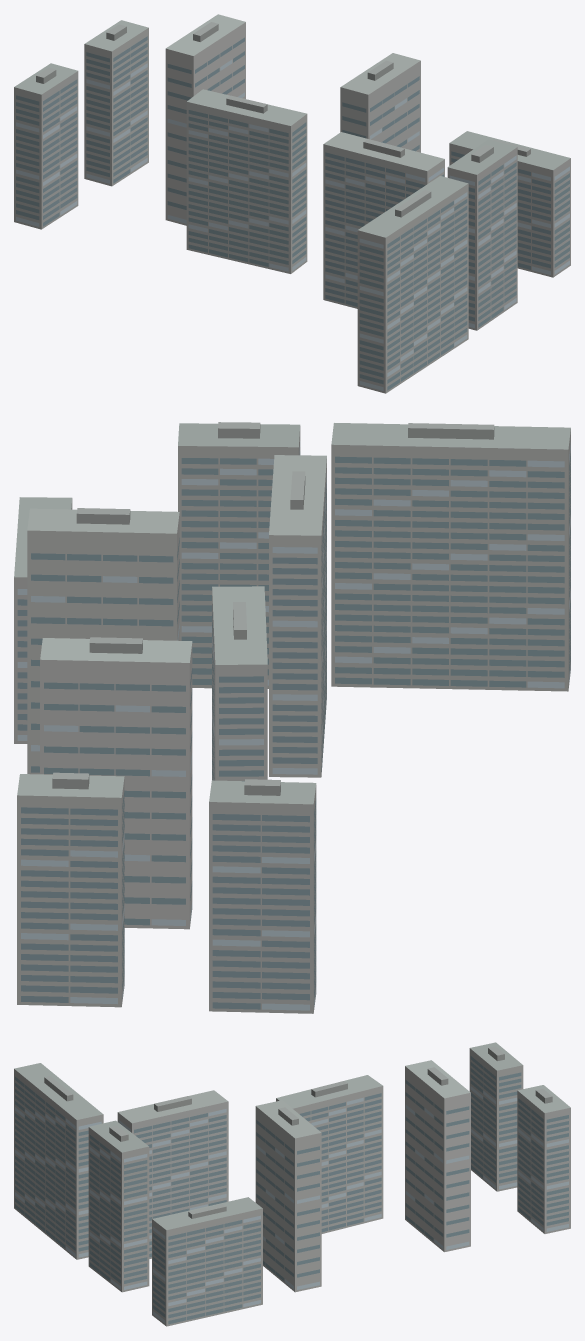
The model's file is apt-a15609502.glb.
The picture shows the model from 3 angles, top to bottom: view 1: azimuth 30°, elevation 25°; view 2: azimuth 150°, elevation 25°; view 3: azimuth 270°, elevation 25°; orthographic projection. The views are drawn at different scales.
Parts seen in each view (by area): view 1: apt-a15609502; view 2: apt-a15609502; view 3: apt-a15609502.
Boxes of the visible parts, box(x1,y1,x2,y2) form: apt-a15609502: box(14, 14, 570, 393); apt-a15609502: box(14, 422, 570, 1013); apt-a15609502: box(14, 1042, 570, 1326).
Bounding box in the file's own units: 149 × 68 × 215.
